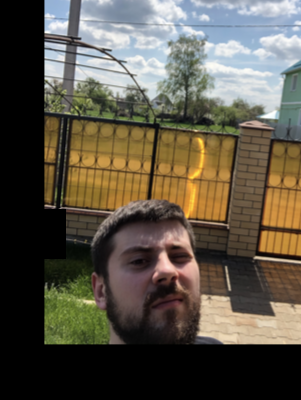without_mask: (111, 233, 199, 344)
